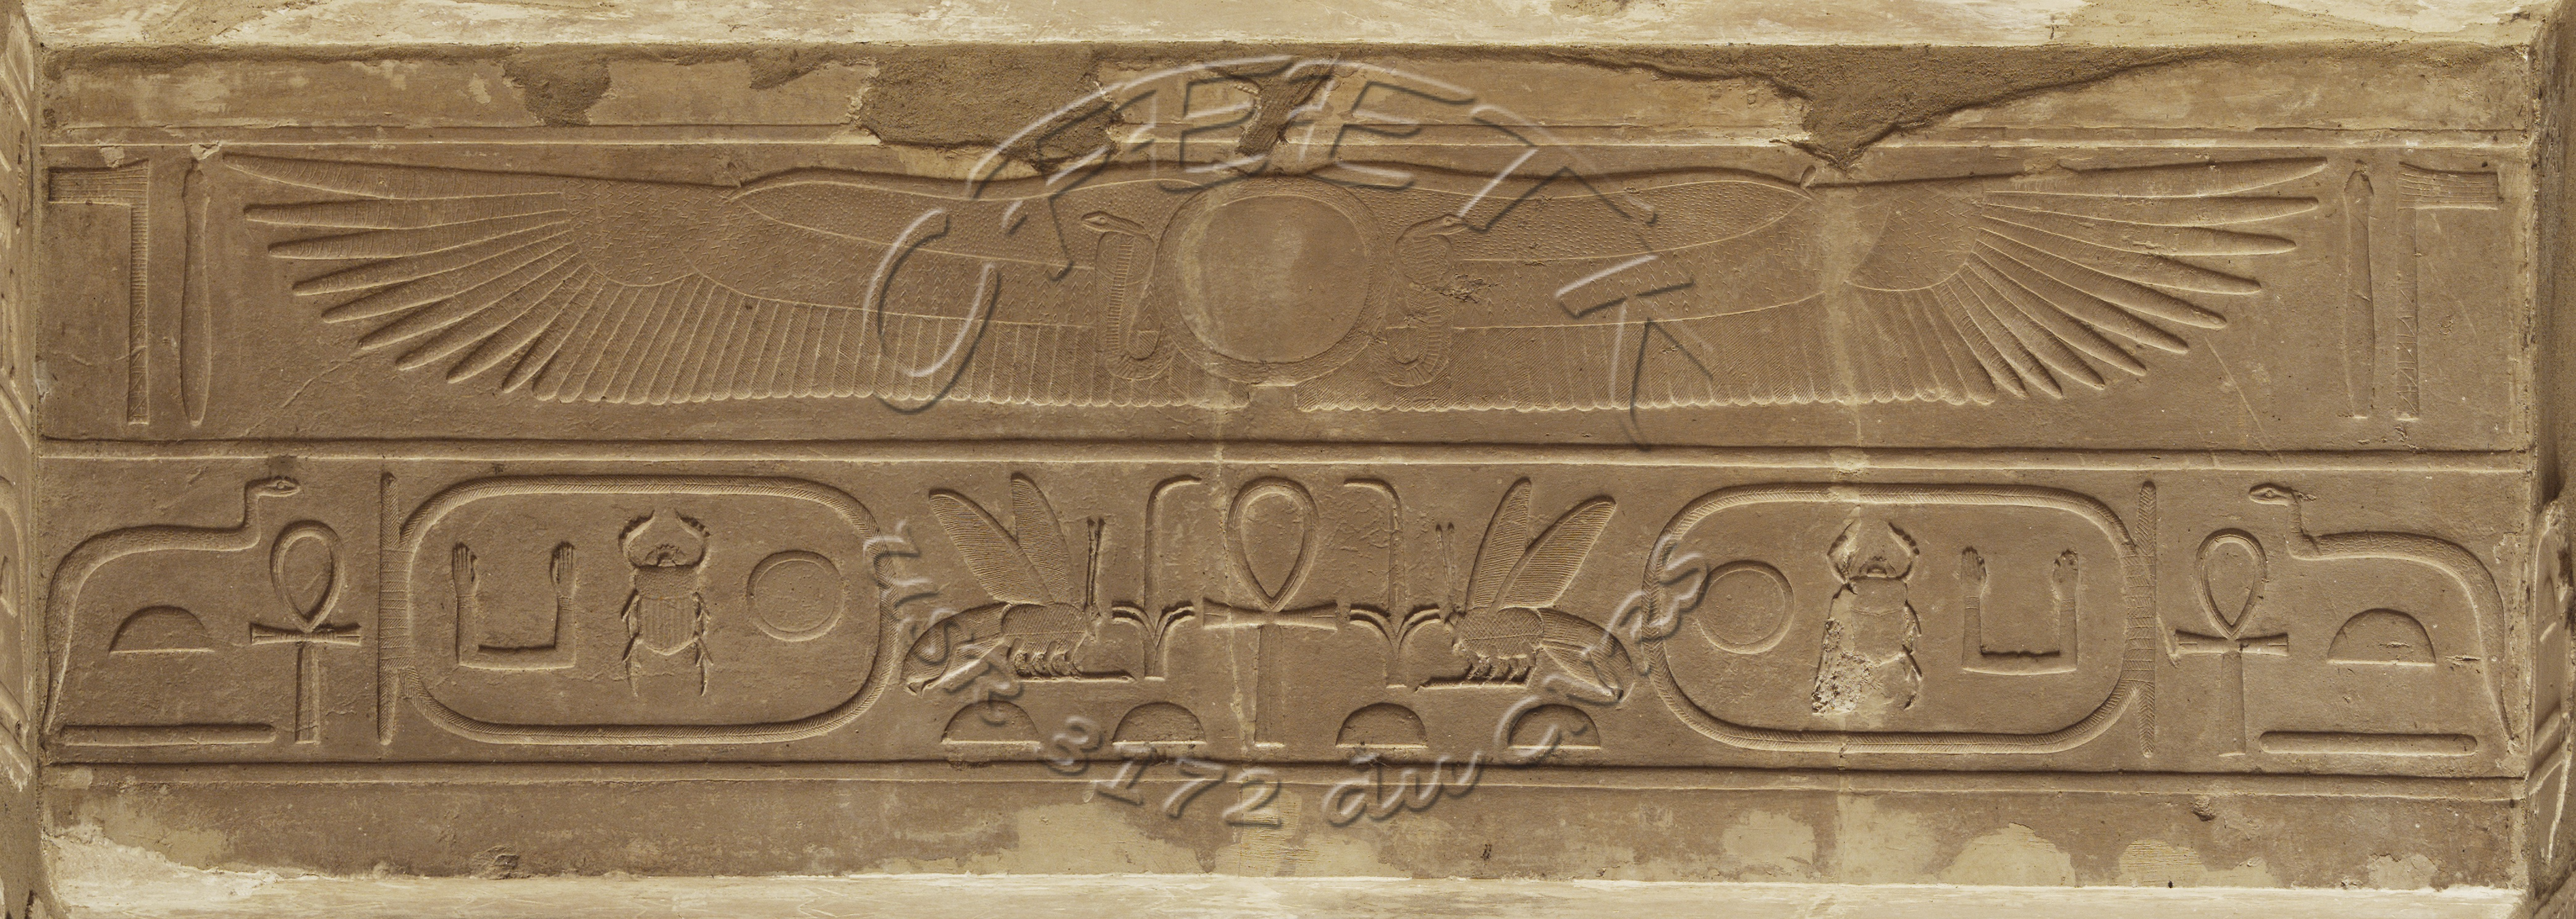I10: (2216, 474, 2538, 786), (36, 459, 315, 765)
